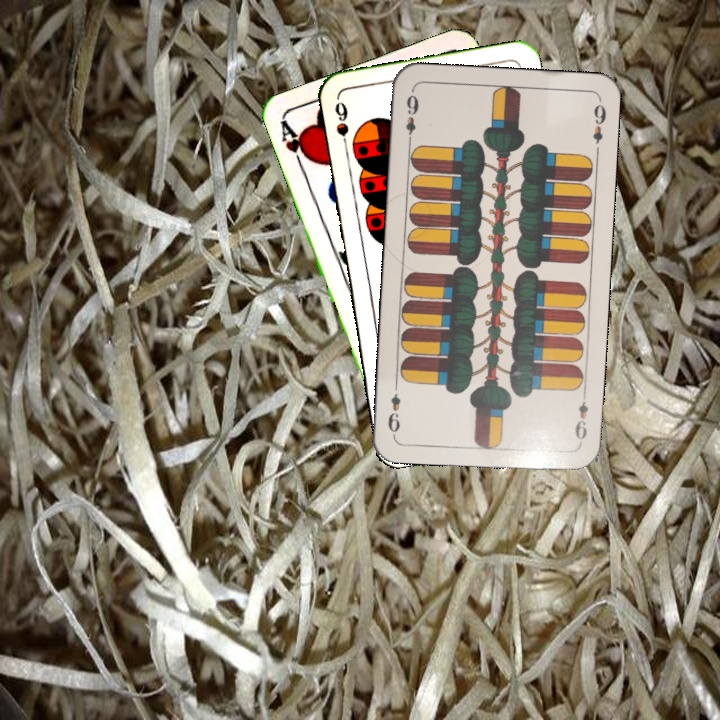E9: (402, 87, 421, 147), (570, 397, 591, 447)
HA: (276, 117, 315, 174)
S9: (331, 97, 352, 156)
